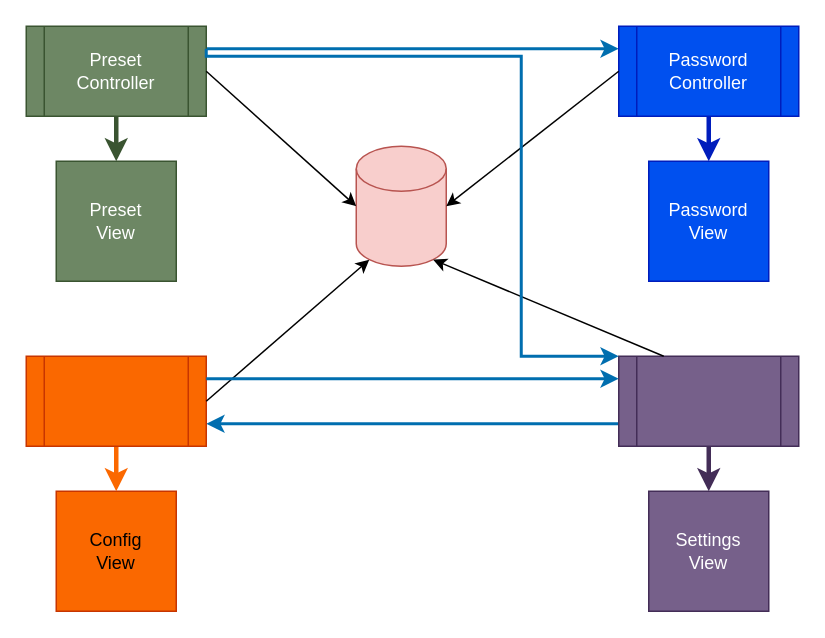
The diagram is 825 pixels wide and 638 high, and some of its shapes have lost their labels. The shapes that lost their labels are listed below. From the top down, each one's centre as x and y in pixels, then its label:
(x=400, y=205): Model: XKpasswd
(x=115, y=400): Config Controller
(x=708, y=400): Settings Controller
